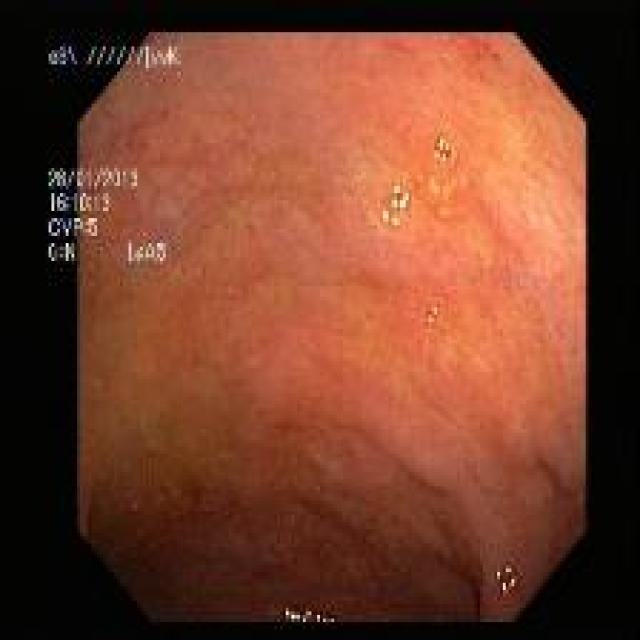ulcerative-colitis: (75, 33, 585, 622)
